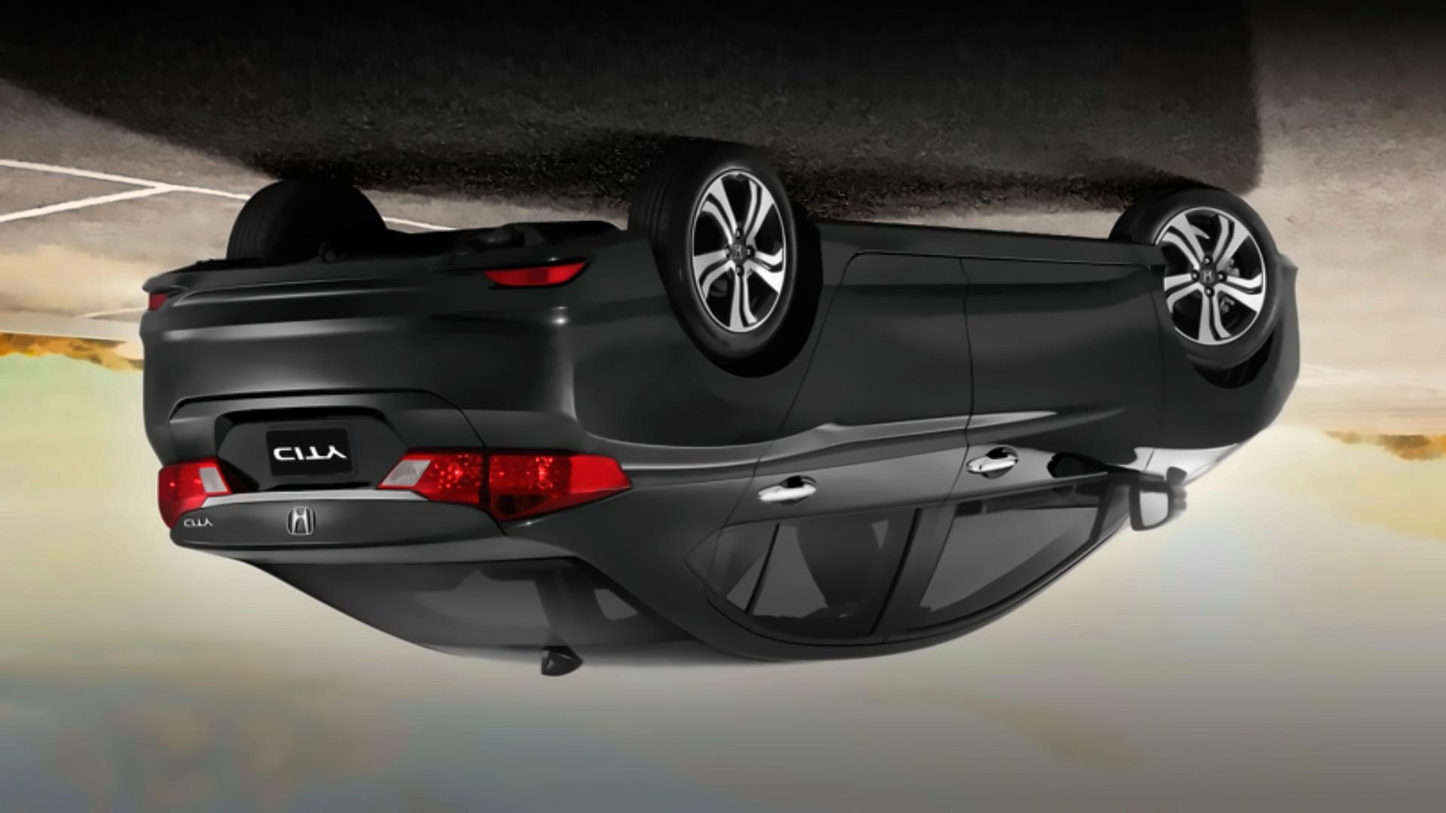Side mirror - -L-: (1119, 468, 1197, 545)
